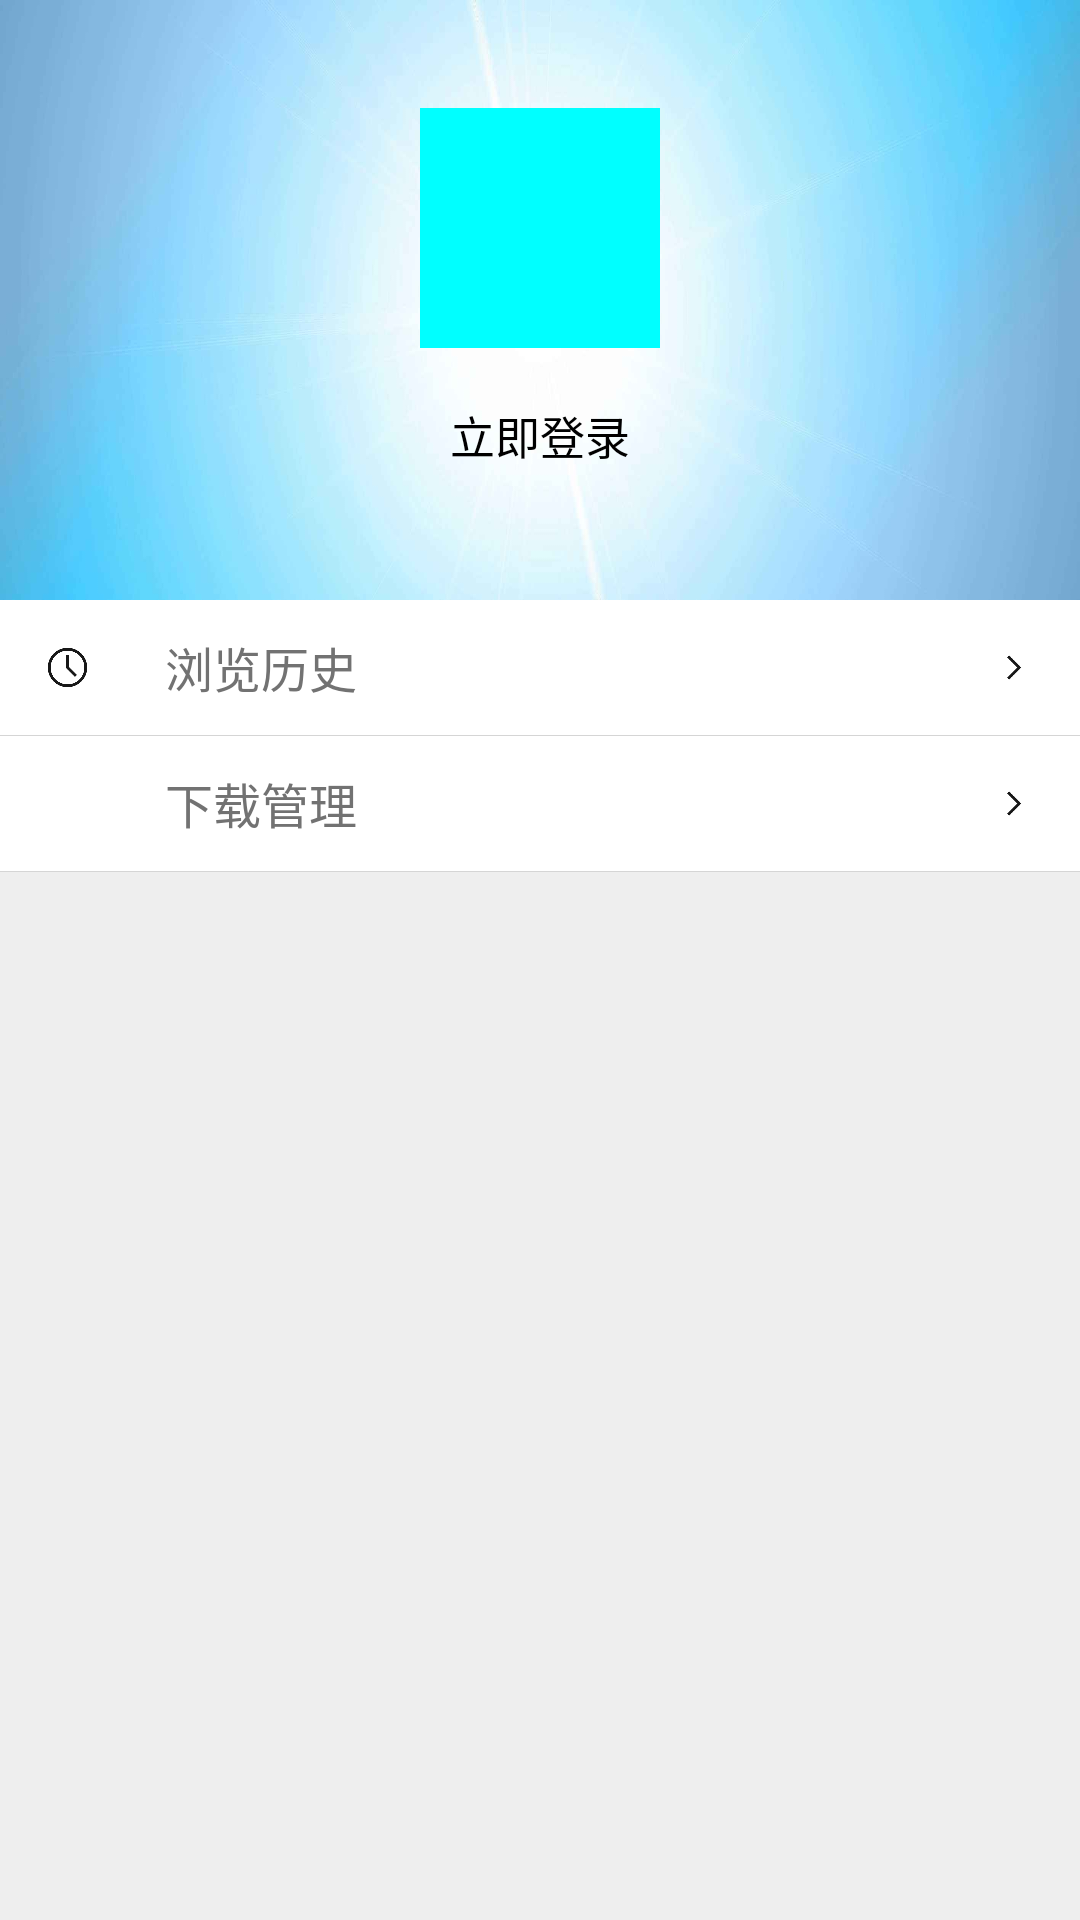

Screen size 1080×1920. Icon name, then its box in pixels as (x1, y1, x2, y2):
arrow right: (1007, 655, 1021, 680), (1007, 791, 1021, 816)
time: (48, 648, 87, 687)
